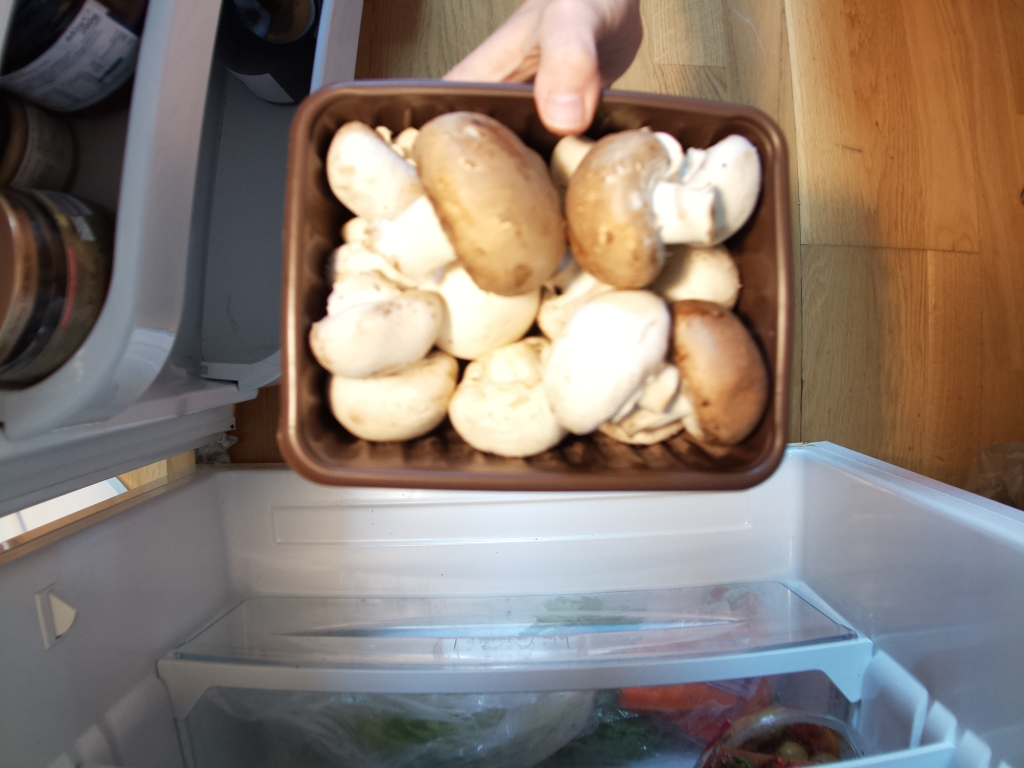mushrooms: (276, 81, 799, 497)
